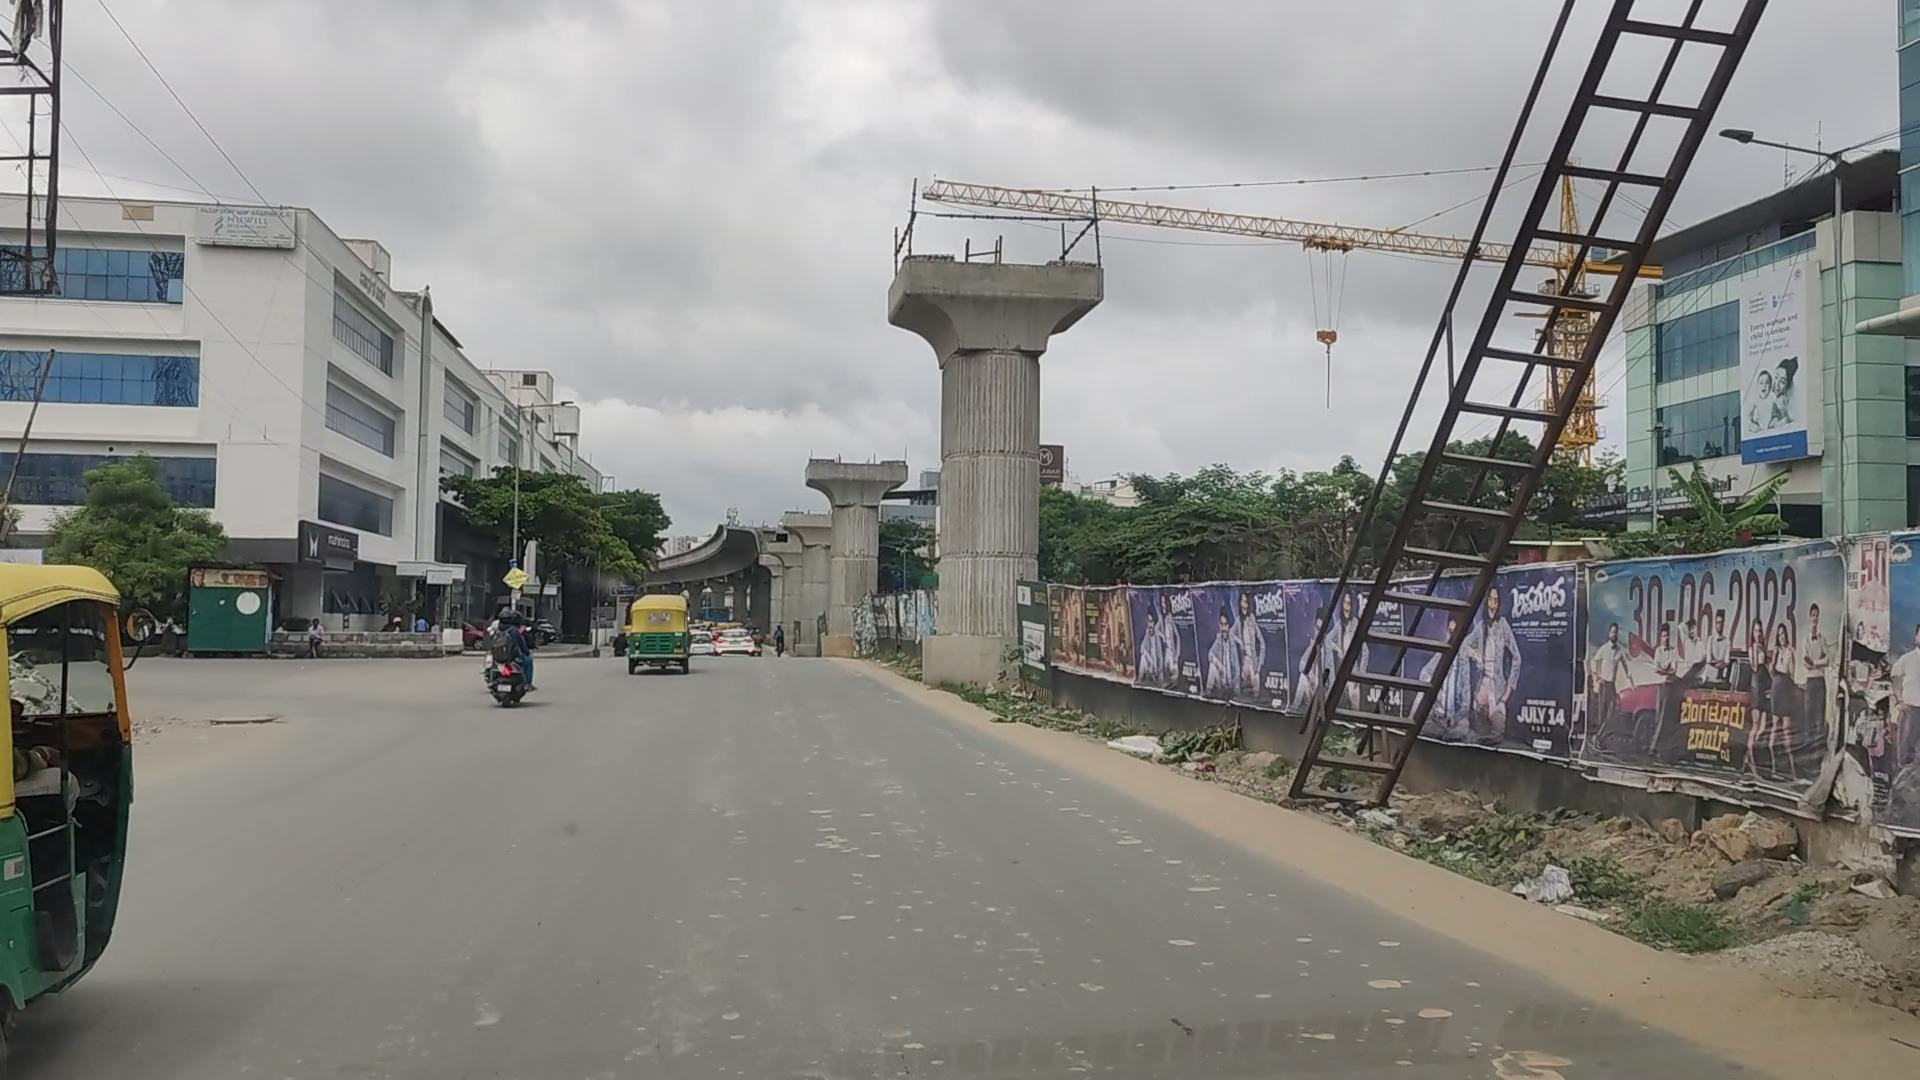LMV: (487, 611, 539, 707), (628, 595, 691, 665)
RoadDamages: (212, 702, 289, 737)
